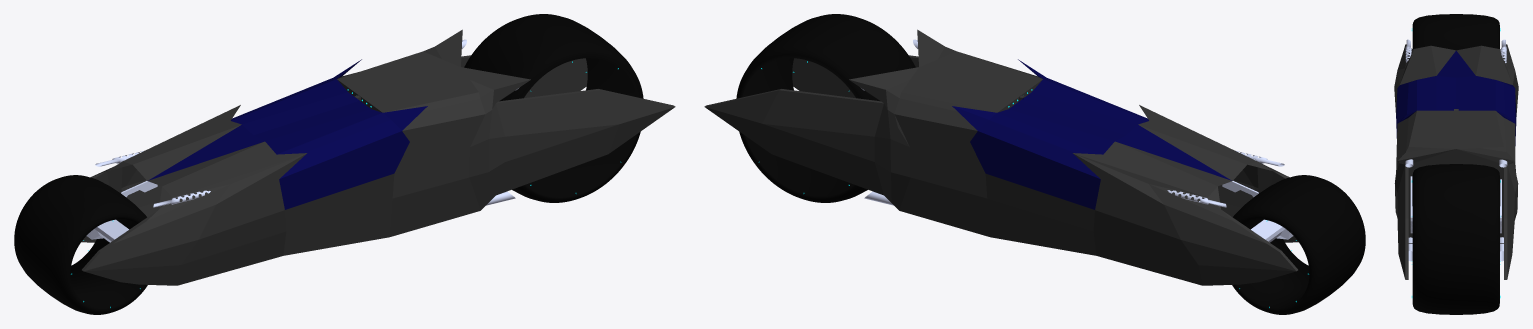
Rendered from Bike_Final.glb.
The picture shows the model from 3 angles, left to right: view 1: azimuth 30°, elevation 25°; view 2: azimuth 150°, elevation 25°; view 3: azimuth 270°, elevation 25°; orthographic projection. The views are drawn at different scales.
Visible parts, largest first — view 1: Chassis, Tire_Rear, Tire_Front, Drive_Train_Front, Guns; view 2: Chassis, Tire_Rear, Tire_Front, Drive_Train_Front, Guns; view 3: Chassis, Tire_Rear, Tire_Front, Exhausts, Drive_Train_Rear, Guns.
Part boxes in pixels (x1,y1,x2,y2): Chassis: (81, 29, 675, 285); Tire_Rear: (464, 14, 643, 202); Tire_Front: (14, 175, 147, 314); Drive_Train_Front: (86, 181, 157, 242); Guns: (95, 150, 210, 207); Chassis: (704, 29, 1298, 285); Tire_Rear: (736, 14, 915, 202); Tire_Front: (1232, 175, 1365, 314); Drive_Train_Front: (1222, 181, 1293, 242); Guns: (1167, 150, 1284, 207); Chassis: (1394, 44, 1518, 279); Tire_Rear: (1412, 164, 1499, 314); Tire_Front: (1412, 14, 1499, 50); Exhausts: (1405, 159, 1507, 261); Drive_Train_Rear: (1410, 176, 1501, 233); Guns: (1405, 39, 1506, 62).
Size of the model in its own units: 4.74 by 1.18 by 0.9767.
